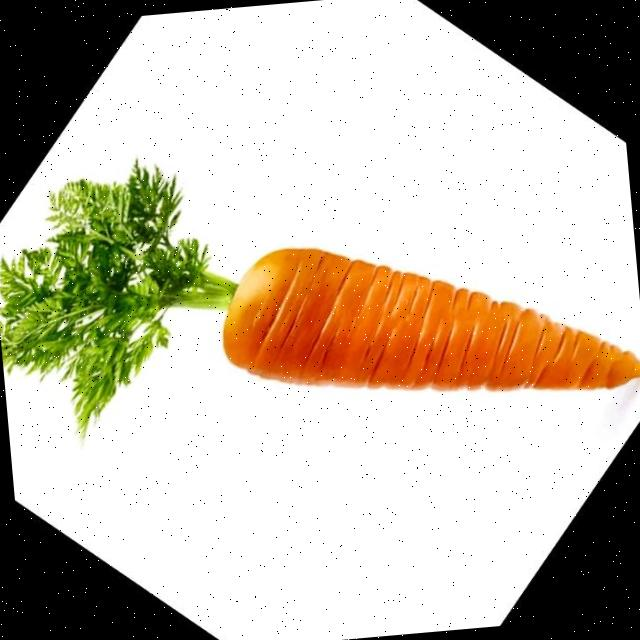carrot: (0, 162, 640, 435)
